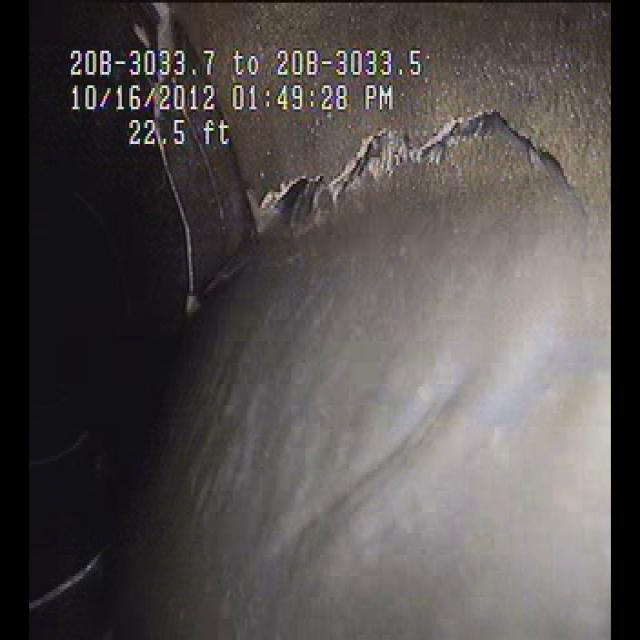Crack: (274, 105, 564, 249)
